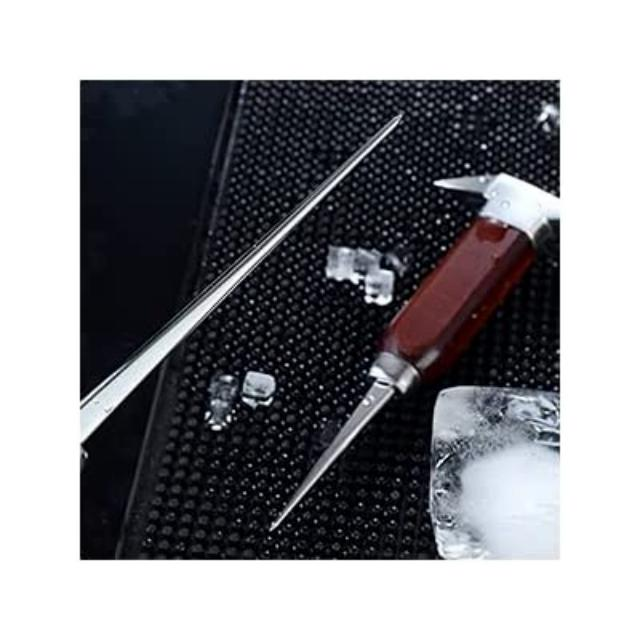ice pick: (80, 115, 400, 441), (271, 174, 559, 532)
